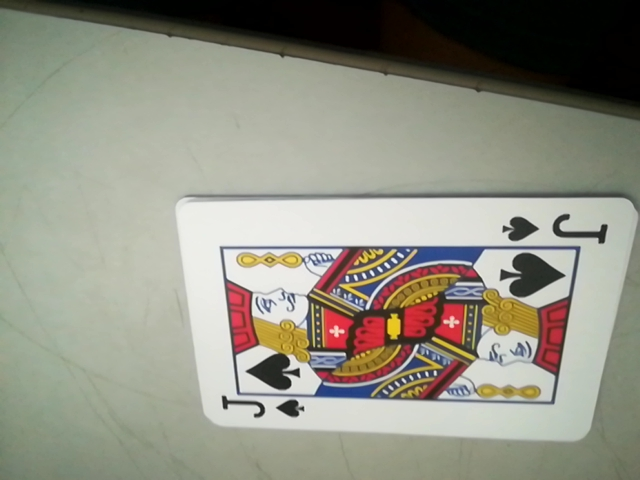ht j: (497, 208, 615, 249), (212, 391, 309, 429)
